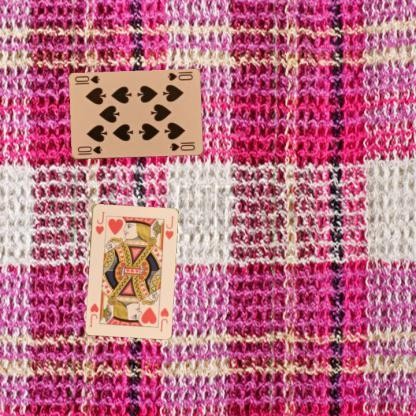10s: (74, 143, 104, 156), (165, 70, 194, 82)
Jh: (92, 208, 106, 236), (157, 306, 170, 333)
